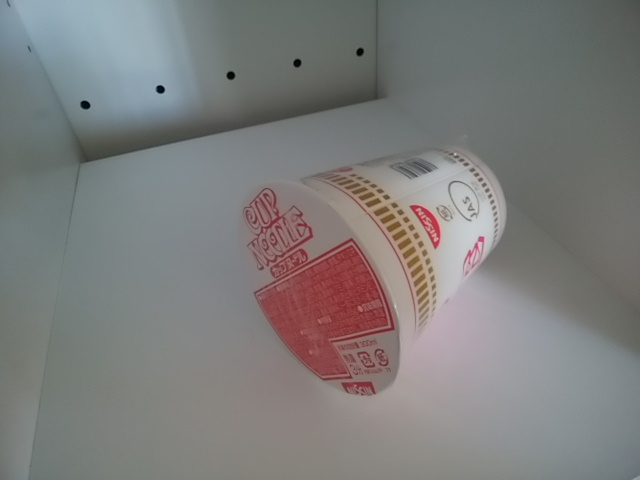cup-ramen: (233, 140, 527, 400)
